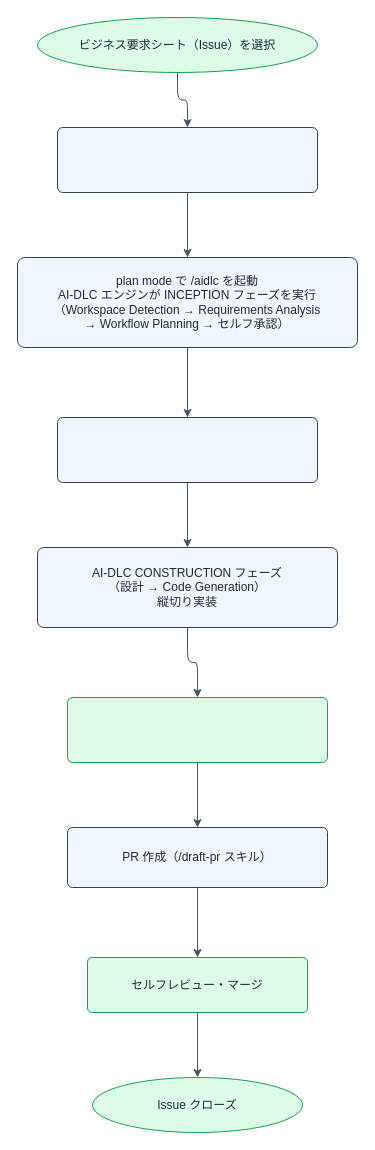
This 375x1150 diagram has some shape labels left out. The shapes that lost their labels are listed below. From the top down, each one's box as (x1, y1, x2, y2) in pixels, then its label:
(56, 126, 318, 192): ブランチ作成 feature/＜GitHubユーザー名＞/＜issue番号＞-＜short-desc＞
(56, 416, 318, 482): Spec-first で仕様更新 （/update-spec スキル）
(66, 696, 328, 762): Build and Test ステージ （lint・テスト・CI）
